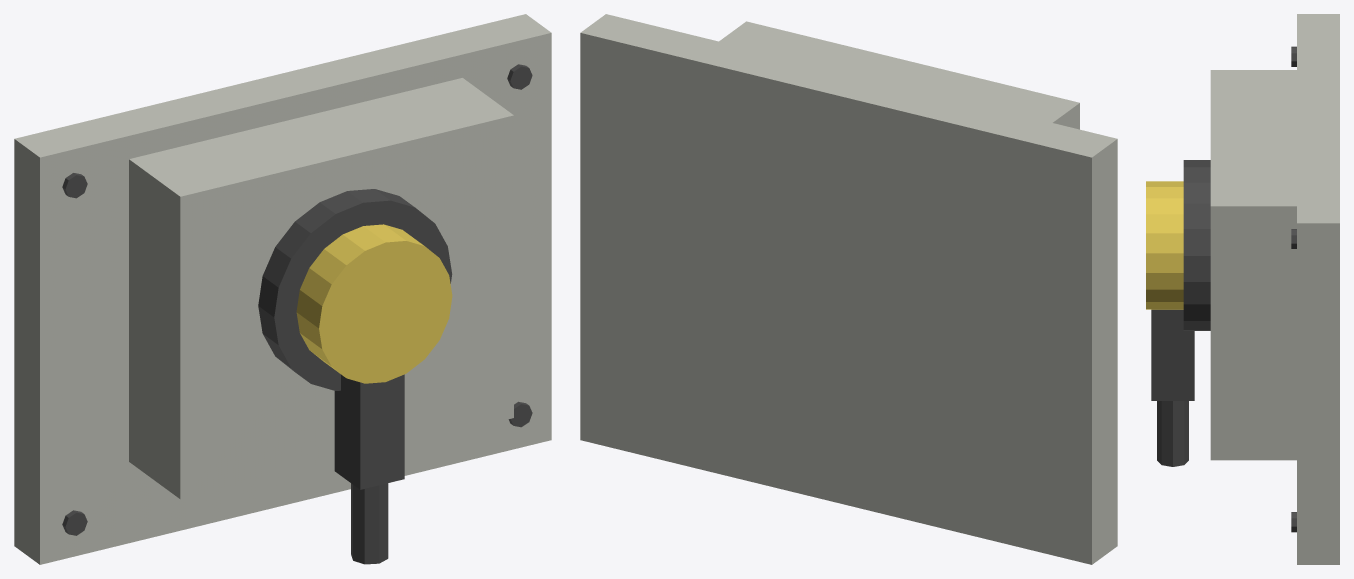
File: dm_plugholder.glb
3 views of the same model, side by side, from view 1: azimuth 30°, elevation 25°; view 2: azimuth 150°, elevation 25°; view 3: azimuth 270°, elevation 25° (orthographic). The views are drawn at different scales.
Parts seen in each view (by area): view 1: dm_plugholder; view 2: dm_plugholder; view 3: dm_plugholder.
Part boxes in pixels (bbox=[...]): dm_plugholder: bbox=[14, 14, 551, 564]; dm_plugholder: bbox=[580, 14, 1117, 564]; dm_plugholder: bbox=[1146, 14, 1339, 564].
Size of the model in its own units: 0.46 by 0.35 by 0.18.
